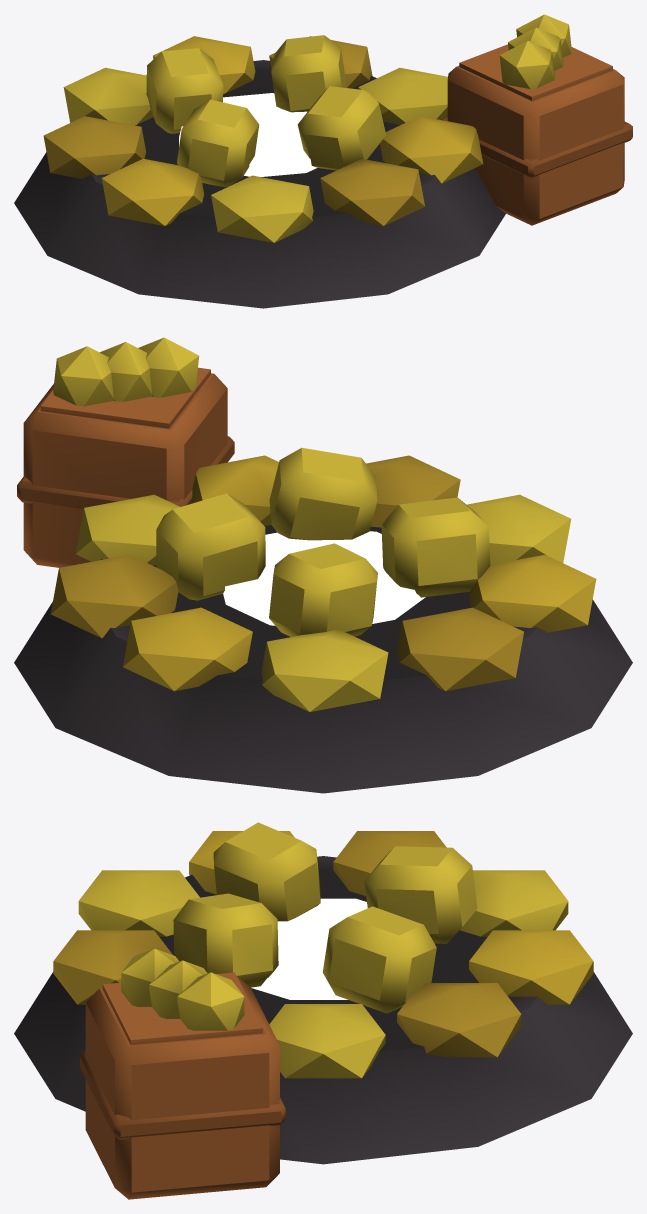
File: n_sulfur.glb
3 renders of one model, top to bottom at view 1: azimuth 30°, elevation 25°; view 2: azimuth 150°, elevation 25°; view 3: azimuth 270°, elevation 25°, orthographic. The views are drawn at different scales.
Parts seen in each view (by area): view 1: body, sulfur_glow; view 2: body, sulfur_glow; view 3: body, sulfur_glow.
Part boxes in pixels (x1,y1,x2,y2): body: (14, 14, 632, 308); sulfur_glow: (179, 93, 317, 176); body: (14, 337, 632, 793); sulfur_glow: (223, 531, 425, 625); body: (14, 822, 632, 1199); sulfur_glow: (251, 898, 367, 999).
Size of the model in its own units: 2.57 by 0.8 by 2.2.
